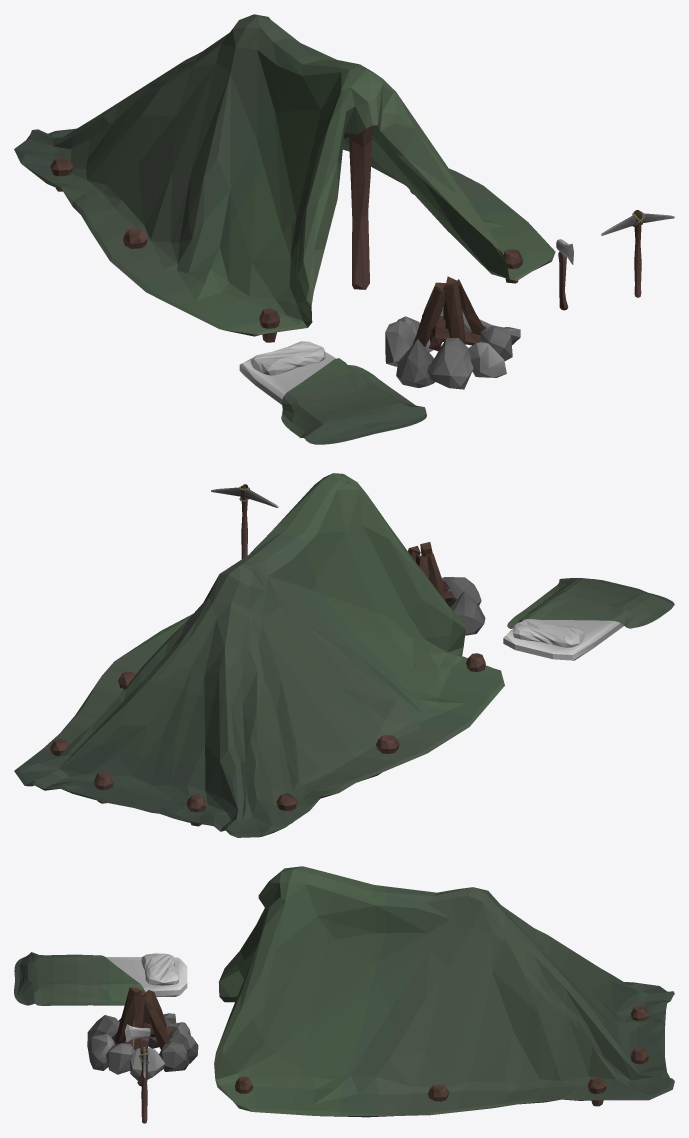
The model's file is FreeSurvivalKit.fbx.
The picture shows the model from 3 angles, top to bottom: view 1: azimuth 30°, elevation 25°; view 2: azimuth 150°, elevation 25°; view 3: azimuth 270°, elevation 25°; orthographic projection. The views are drawn at different scales.
Visible parts, largest first — view 1: Tent, Mattress, Campfire, Picaxe_Stone, Axe; view 2: Tent, Mattress, Campfire, Picaxe_Stone; view 3: Tent, Mattress, Campfire, Picaxe_Stone, Axe.
Part boxes in pixels (box(x1,y1,x2,y2)): Tent: box(14, 14, 555, 342); Mattress: box(239, 341, 426, 444); Campfire: box(385, 276, 520, 389); Picaxe_Stone: box(601, 210, 674, 297); Axe: box(556, 239, 573, 310); Tent: box(14, 473, 504, 837); Mattress: box(503, 578, 674, 660); Campfire: box(408, 542, 485, 635); Picaxe_Stone: box(211, 484, 278, 558); Tent: box(214, 866, 674, 1117); Mattress: box(14, 952, 187, 1005); Campfire: box(87, 987, 198, 1080); Picaxe_Stone: box(139, 1047, 149, 1123); Axe: box(125, 1024, 150, 1086).
Bounding box in the file's own units: 1160 × 591 × 1784.
